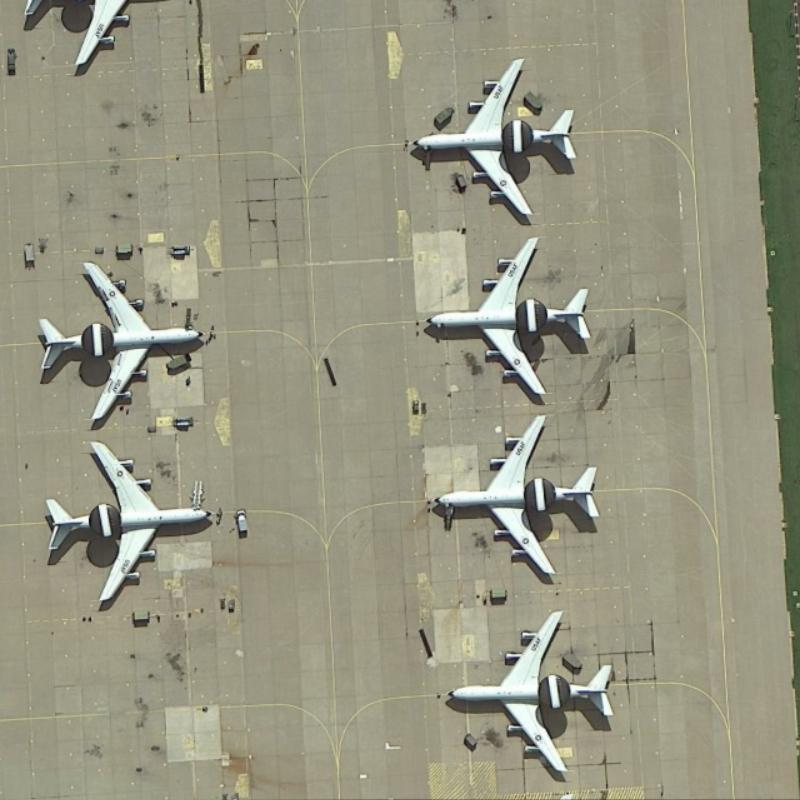A7: (403, 50, 586, 226), (444, 602, 622, 781), (427, 405, 609, 580), (36, 430, 218, 599), (30, 255, 213, 423), (422, 228, 592, 407)
